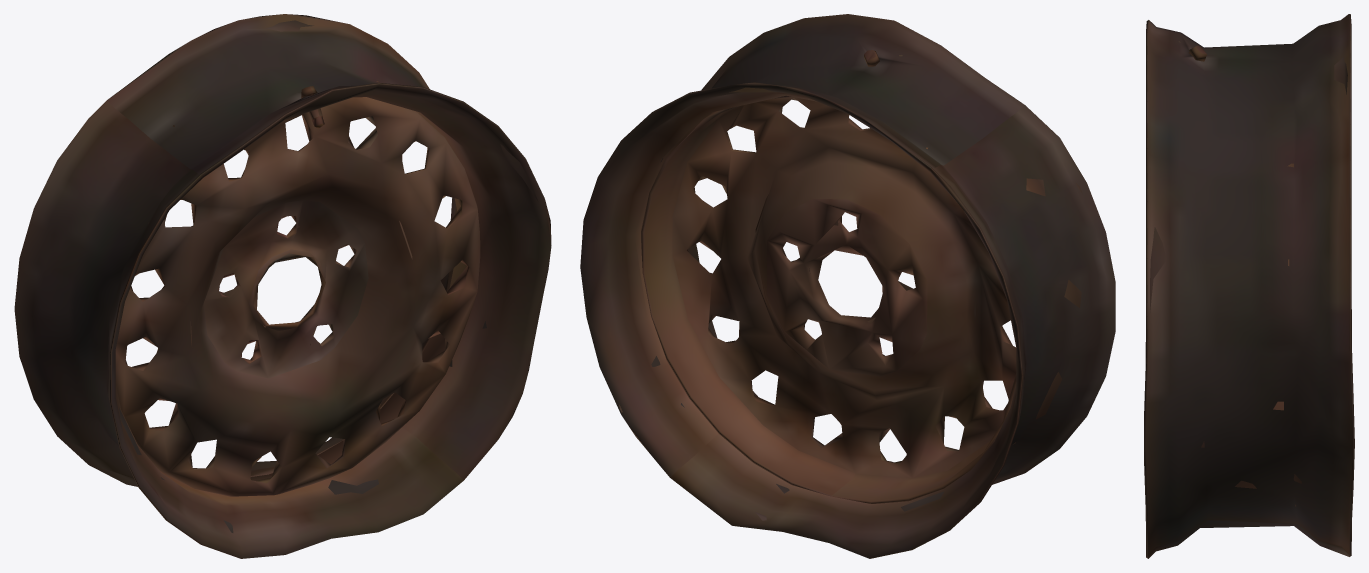
File: rusted_wheel_rim_01_lod2.glb
3 renders of one model, left to right at view 1: azimuth 30°, elevation 25°; view 2: azimuth 150°, elevation 25°; view 3: azimuth 270°, elevation 25°, orthographic. The views are drawn at different scales.
Parts seen in each view (by area): view 1: rusted_wheel_rim_01; view 2: rusted_wheel_rim_01; view 3: rusted_wheel_rim_01.
Part boxes in pixels (<box>): rusted_wheel_rim_01: <box>14,14,551,558</box>; rusted_wheel_rim_01: <box>580,14,1115,558</box>; rusted_wheel_rim_01: <box>1144,14,1354,558</box>.
Bounding box in the file's own units: 0.4016 × 0.3938 × 0.1539.
1 material, 1 textured.
